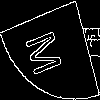M: (25, 25, 70, 79)
